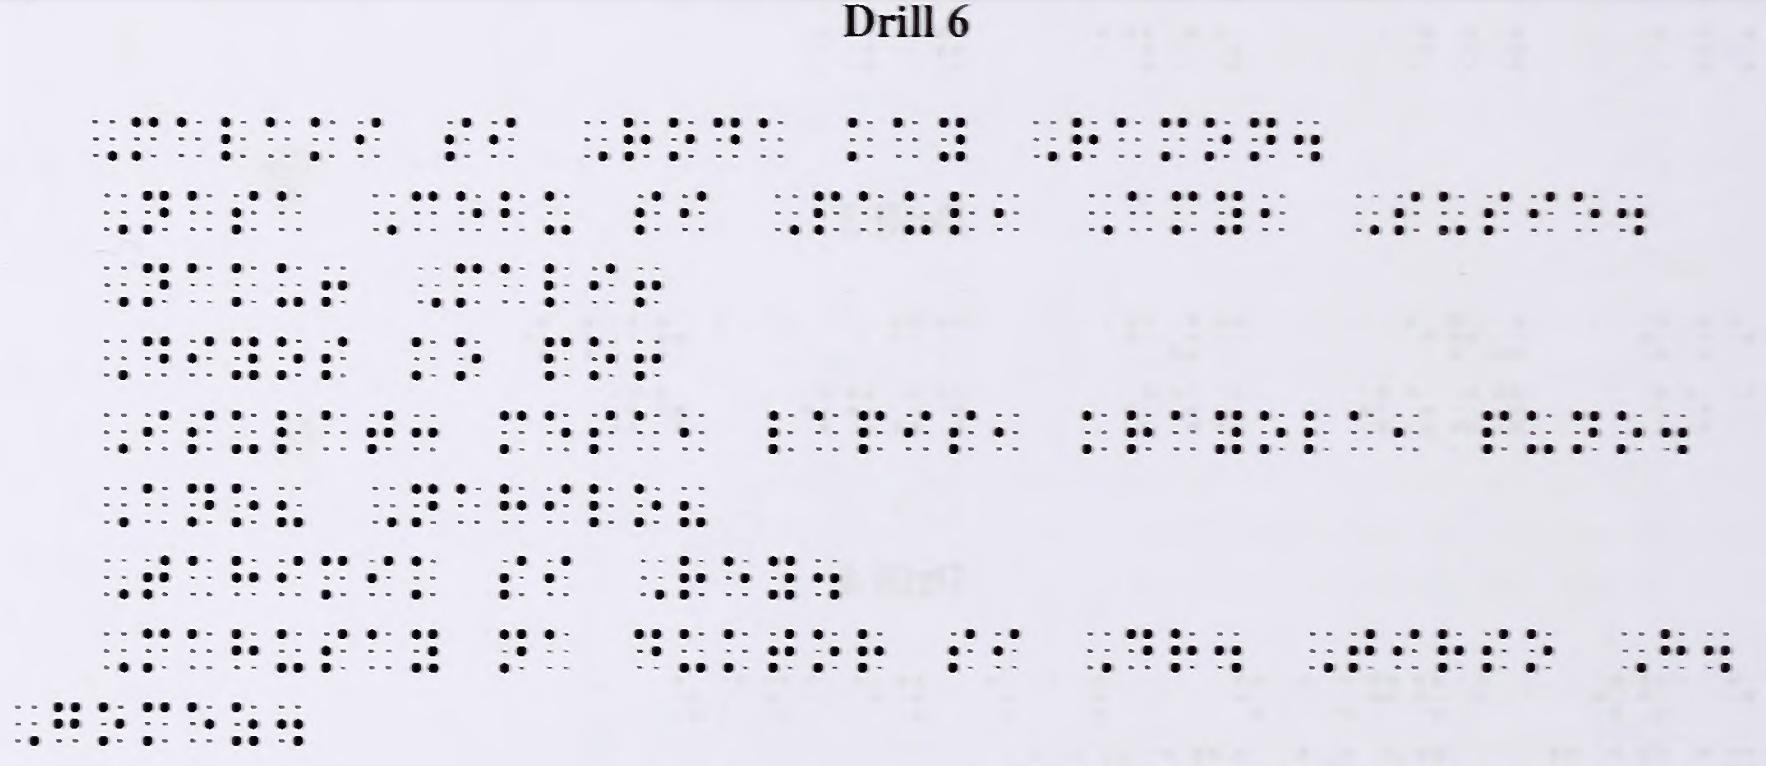capital_sign: (1304, 626, 1336, 676), (1616, 625, 1648, 675), (1352, 187, 1382, 238), (580, 115, 610, 164), (99, 481, 131, 528), (10, 701, 42, 748), (636, 553, 666, 604), (369, 189, 400, 238), (1083, 189, 1115, 235), (413, 260, 444, 308), (100, 408, 131, 455), (371, 480, 399, 531), (102, 335, 133, 381), (771, 190, 801, 238), (100, 261, 130, 309), (101, 555, 132, 600), (1032, 114, 1059, 163), (1085, 629, 1114, 674), (101, 627, 130, 674), (101, 189, 128, 235), (91, 118, 117, 160)
letter_A: (1126, 189, 1156, 234), (141, 480, 169, 526)
letter_C: (410, 188, 440, 235)
letter_D: (140, 335, 172, 380), (1125, 627, 1153, 673)
letter_G: (53, 701, 80, 747)
letter_H: (1659, 627, 1688, 675)
letter_I: (141, 404, 171, 455)
letter_M: (141, 626, 171, 675), (454, 259, 483, 308), (131, 117, 159, 163)
letter_N: (408, 479, 440, 529), (140, 260, 171, 310)
letter_P: (812, 188, 842, 239)
letter_R: (622, 115, 652, 166), (1072, 115, 1100, 163), (679, 553, 706, 599)
letter_T: (1346, 626, 1376, 677), (142, 554, 170, 602)
letter_a: (1167, 404, 1201, 456), (810, 406, 842, 455), (184, 188, 217, 235), (185, 553, 216, 603), (892, 114, 922, 163), (1114, 114, 1144, 163), (544, 626, 574, 676), (319, 407, 350, 454), (186, 627, 216, 675), (262, 114, 294, 159), (858, 189, 886, 239), (366, 626, 395, 674), (757, 116, 787, 161), (1348, 406, 1376, 454), (276, 188, 305, 234), (186, 261, 215, 308), (634, 408, 663, 452), (499, 262, 529, 304), (455, 481, 482, 526), (177, 116, 202, 159)
letter_b: (498, 188, 526, 234)
letter_d: (632, 625, 663, 676), (712, 116, 743, 161)
letter_e: (184, 700, 218, 748), (1570, 188, 1603, 235), (721, 554, 752, 600), (455, 187, 484, 235), (544, 408, 573, 456)
letter_h: (229, 553, 261, 599), (498, 481, 529, 526), (230, 626, 260, 671)
letter_i: (902, 407, 934, 454), (275, 553, 306, 600), (1391, 626, 1422, 674), (365, 552, 395, 599), (185, 335, 217, 378), (354, 114, 384, 160), (1528, 188, 1559, 234), (488, 116, 517, 163), (545, 553, 573, 600), (544, 480, 572, 526), (680, 188, 708, 233), (992, 627, 1020, 673), (588, 262, 618, 304)
letter_k: (408, 332, 439, 383), (845, 113, 875, 164), (1080, 406, 1109, 457), (229, 262, 260, 309), (408, 555, 439, 600), (723, 626, 750, 678), (309, 115, 337, 163)
letter_l: (586, 479, 617, 531), (767, 408, 800, 456), (276, 407, 305, 457), (1303, 407, 1332, 457), (949, 187, 978, 239), (543, 260, 572, 309), (222, 116, 248, 162)
letter_m: (140, 700, 171, 749), (1158, 115, 1189, 163), (320, 552, 350, 602), (498, 407, 527, 456), (1170, 189, 1198, 237)
letter_n: (496, 627, 528, 678), (1247, 115, 1279, 163), (1571, 408, 1602, 455), (142, 188, 170, 239), (186, 481, 215, 526)
letter_o: (453, 333, 485, 384), (585, 333, 617, 384), (1257, 404, 1288, 456), (631, 481, 663, 531), (230, 479, 261, 529), (1525, 626, 1557, 677), (1202, 115, 1234, 162), (1615, 408, 1647, 456), (667, 116, 697, 163), (275, 332, 303, 382), (813, 626, 841, 675), (96, 701, 125, 747)
letter_p: (855, 407, 889, 458), (1481, 407, 1513, 456), (542, 333, 571, 384)
letter_r: (1124, 407, 1156, 456), (1437, 626, 1469, 676), (857, 626, 889, 675), (1169, 627, 1197, 674)
letter_s: (1478, 627, 1514, 676), (229, 188, 261, 238), (494, 552, 528, 599), (587, 408, 619, 456), (320, 625, 351, 675), (186, 407, 216, 455), (947, 407, 976, 455), (634, 188, 662, 238), (321, 333, 349, 382), (444, 115, 472, 162), (1482, 190, 1510, 238), (947, 627, 975, 674), (1394, 189, 1421, 237)
letter_t: (364, 406, 398, 456), (768, 627, 796, 678)
letter_u: (676, 625, 708, 678), (1525, 407, 1559, 456), (230, 407, 264, 455), (275, 259, 306, 309), (275, 627, 307, 675), (543, 188, 573, 238), (1438, 189, 1468, 240), (903, 189, 931, 240)
letter_y: (409, 626, 443, 675), (230, 335, 261, 382), (1213, 408, 1243, 455), (1215, 188, 1243, 238), (769, 553, 796, 603), (939, 114, 966, 162)
letter_z: (230, 700, 260, 747)
